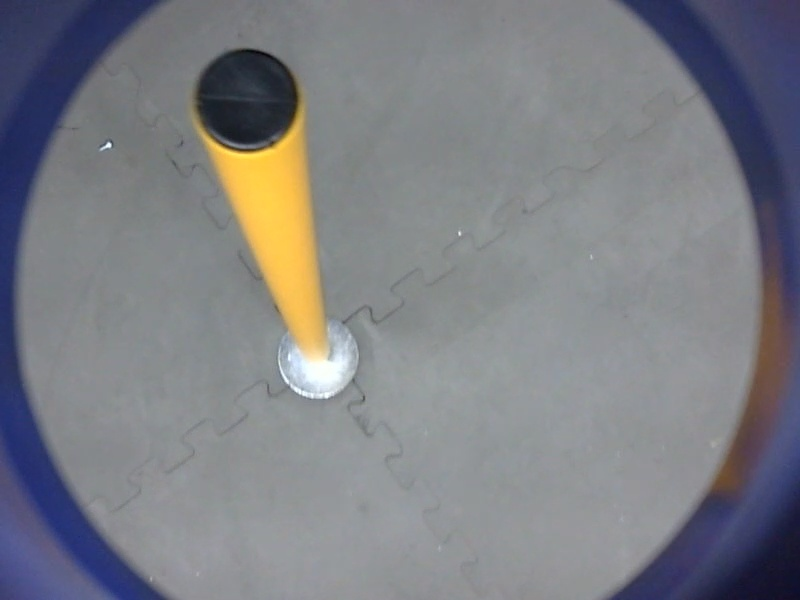tip: (186, 41, 309, 159)
